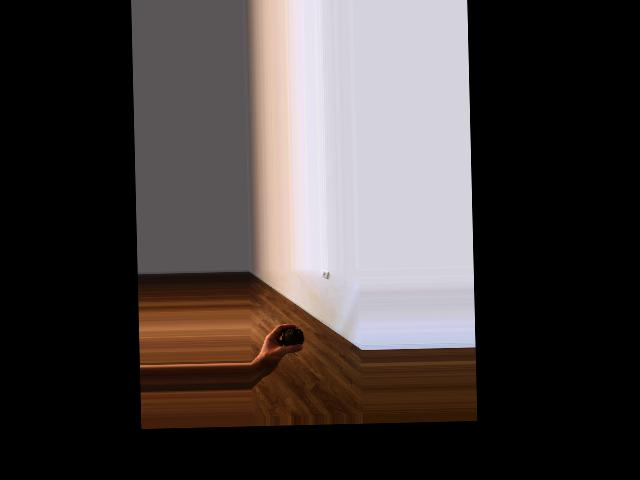beet: (282, 327, 305, 356)
